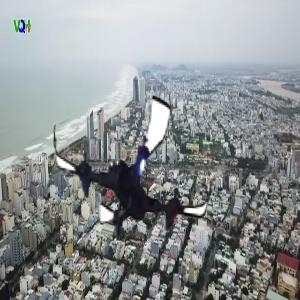drone: (47, 80, 221, 254)
